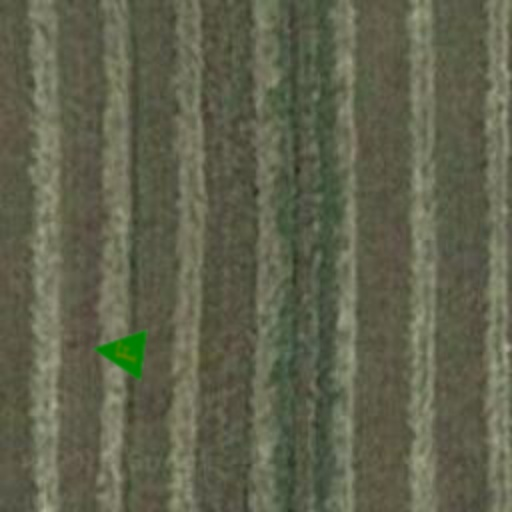triangle: (88, 322, 148, 382)
